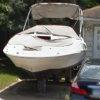Boat: (3, 1, 89, 86)
